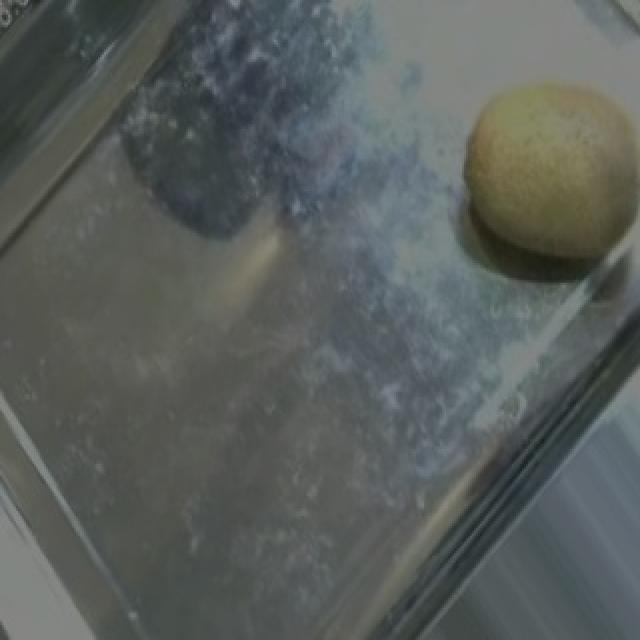Fruit: (432, 40, 640, 302)
